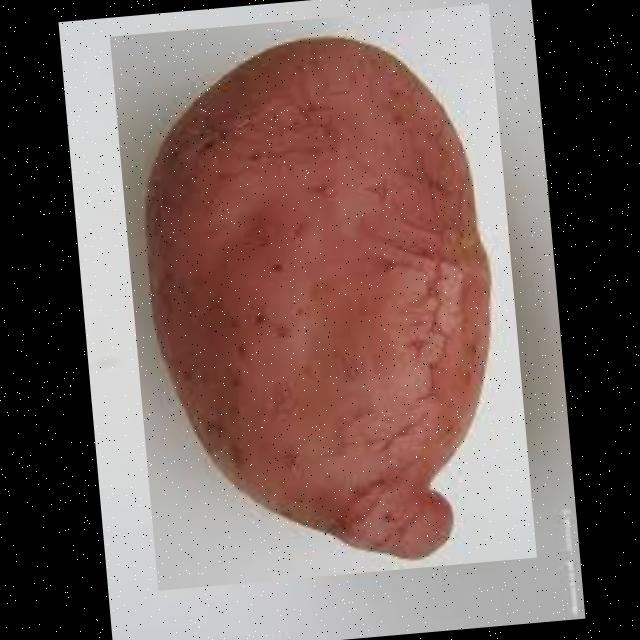Damaged potato: (109, 3, 536, 590)
